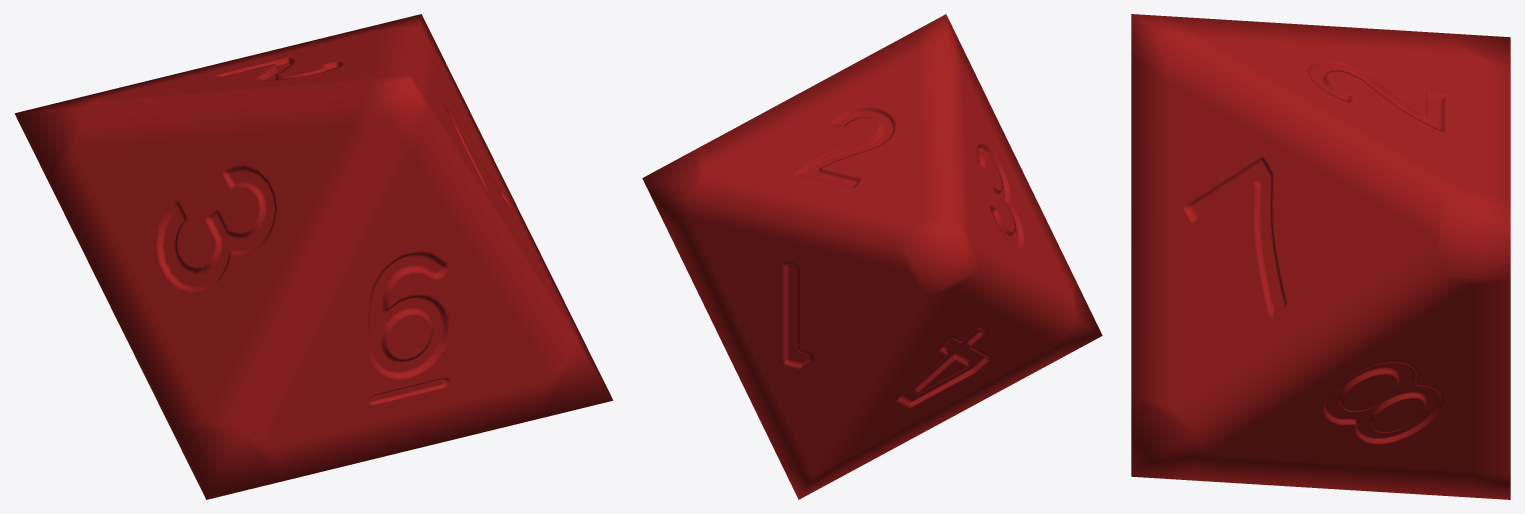
Rendered from die_8.glb.
The picture shows the model from 3 angles, left to right: view 1: azimuth 30°, elevation 25°; view 2: azimuth 150°, elevation 25°; view 3: azimuth 270°, elevation 25°; orthographic projection. The views are drawn at different scales.
Size of the model in its own units: 38210 by 44105 by 31203.
